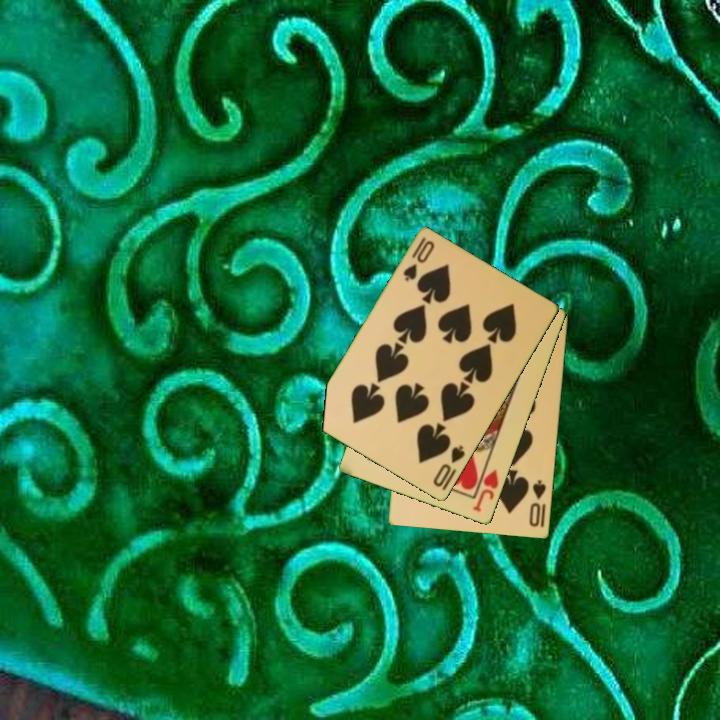10s: (400, 234, 438, 285), (430, 442, 468, 490), (526, 477, 549, 530)
Jh: (469, 466, 502, 515)
